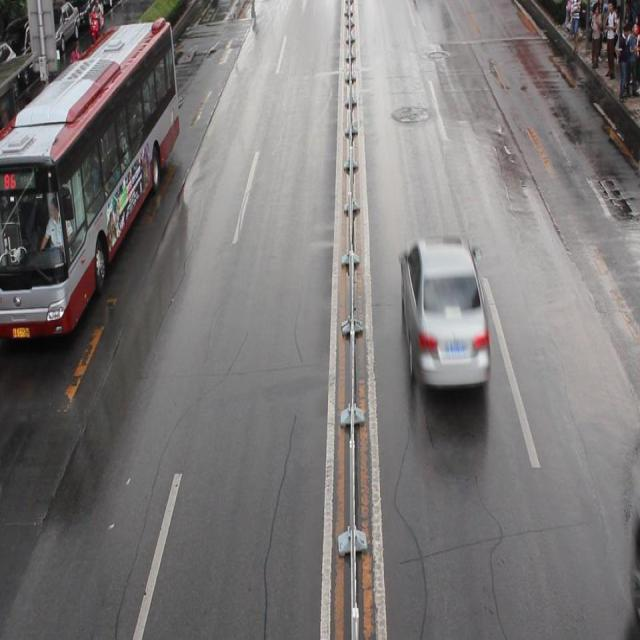car: (400, 236, 489, 390)
van: (1, 16, 179, 340)
